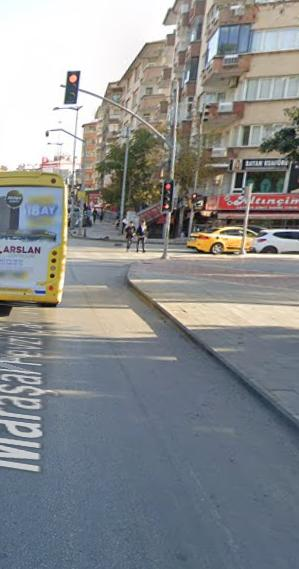redlight: (66, 71, 77, 102), (164, 181, 172, 203)
